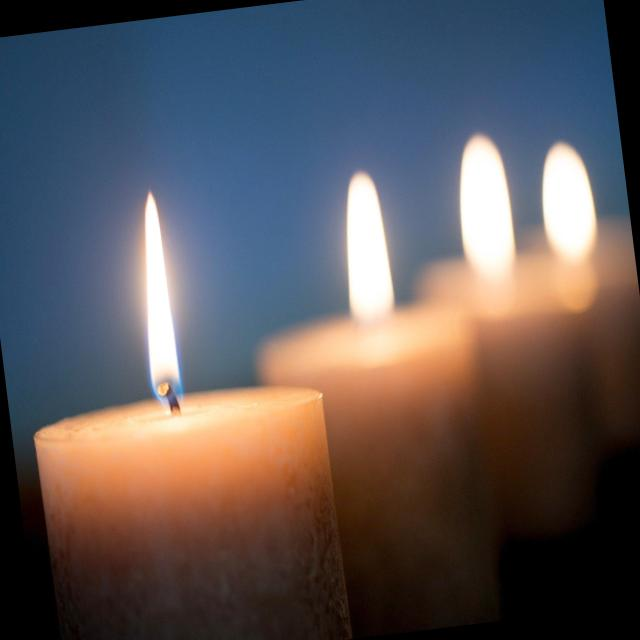Fire_Save: (4, 171, 352, 640), (235, 156, 514, 640), (394, 114, 640, 548)
